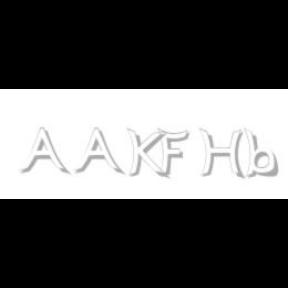A: (19, 128, 67, 176), (73, 128, 121, 176)
F: (157, 128, 189, 178)
H: (199, 128, 245, 180)
K: (126, 128, 166, 180)
b: (244, 128, 282, 178)
